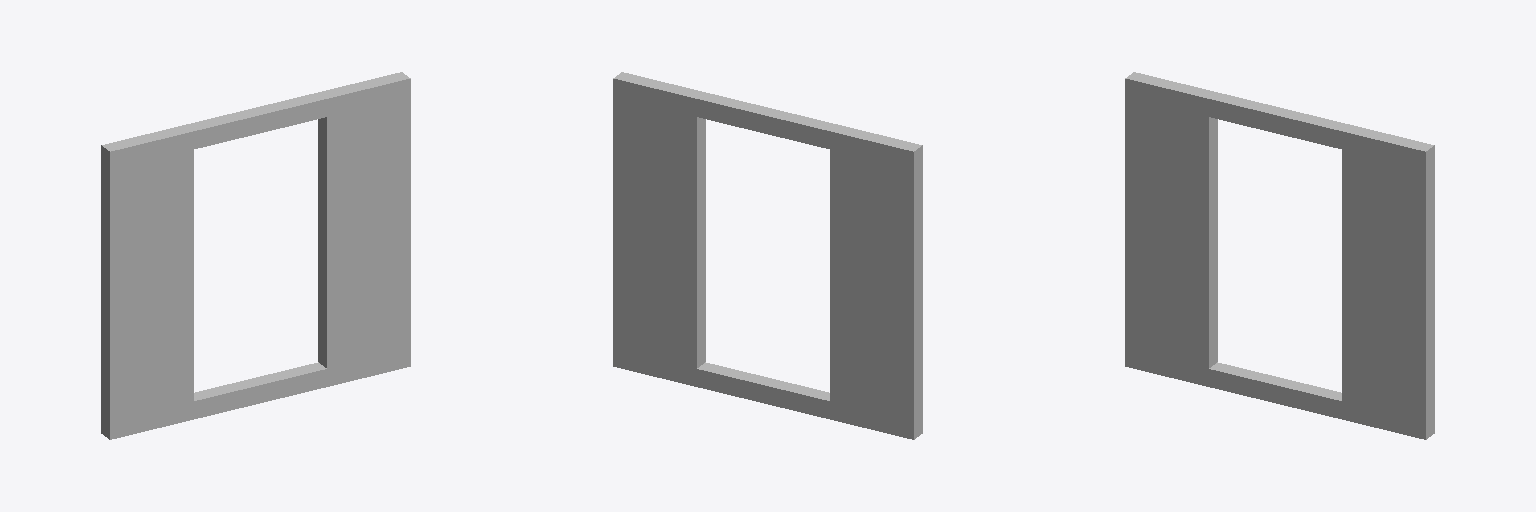
The model's file is doorWayHP.obj.
The picture shows the model from 3 angles: view 1: azimuth 30°, elevation 25°; view 2: azimuth 150°, elevation 25°; view 3: azimuth 330°, elevation 25°; orthographic projection.
Visible parts, largest first — view 1: default; view 2: default; view 3: default.
Part boxes in pixels (left/top/right/bottom): default: left=101, top=72, right=410, bottom=439; default: left=613, top=72, right=922, bottom=439; default: left=1125, top=72, right=1434, bottom=439.
Bounding box in the file's own units: 7.03 × 6.44 × 0.3599.